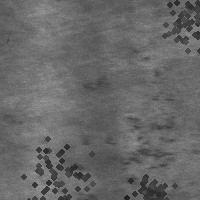rolled-in_scale: (5, 121, 111, 200), (117, 94, 181, 198), (148, 0, 200, 66), (73, 133, 115, 200), (116, 159, 180, 200)
